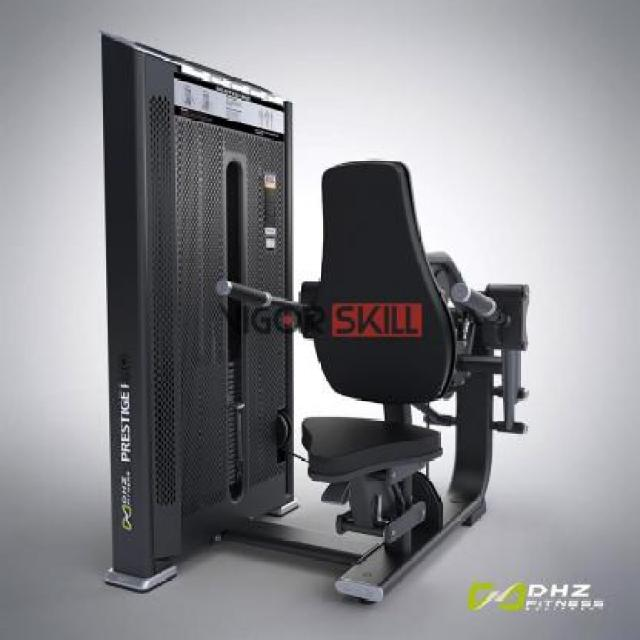seated dip machine: (97, 29, 535, 548)
